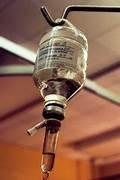Iv_Bottle: (33, 20, 87, 178), (33, 23, 87, 98)
